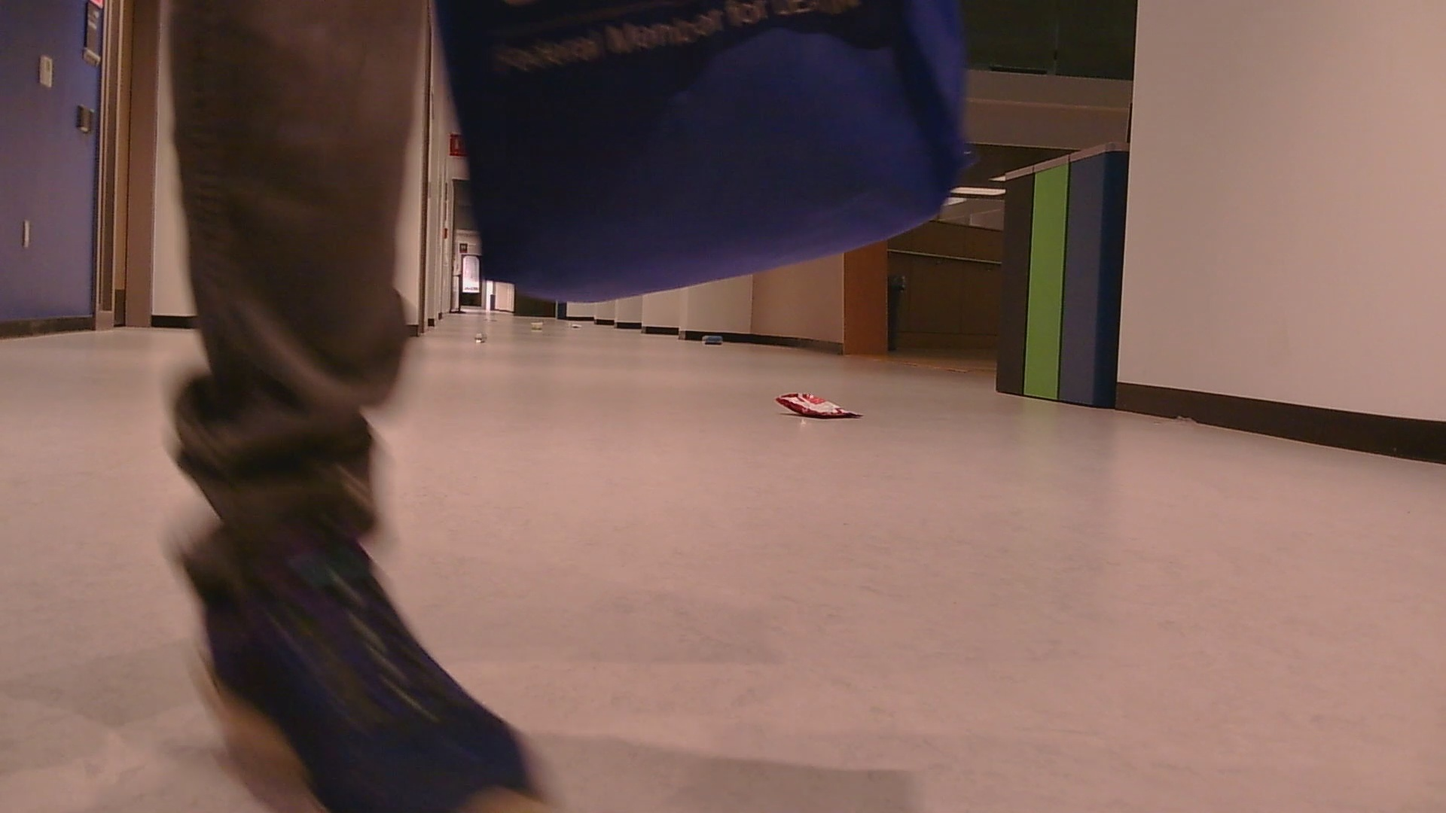carton: (765, 381, 882, 437)
